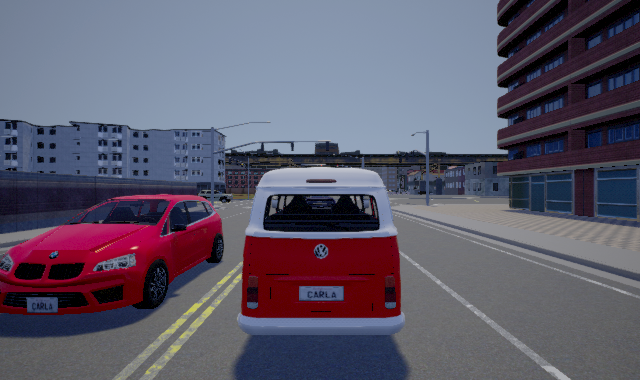vehicle: (237, 167, 405, 335), (1, 190, 224, 315)
